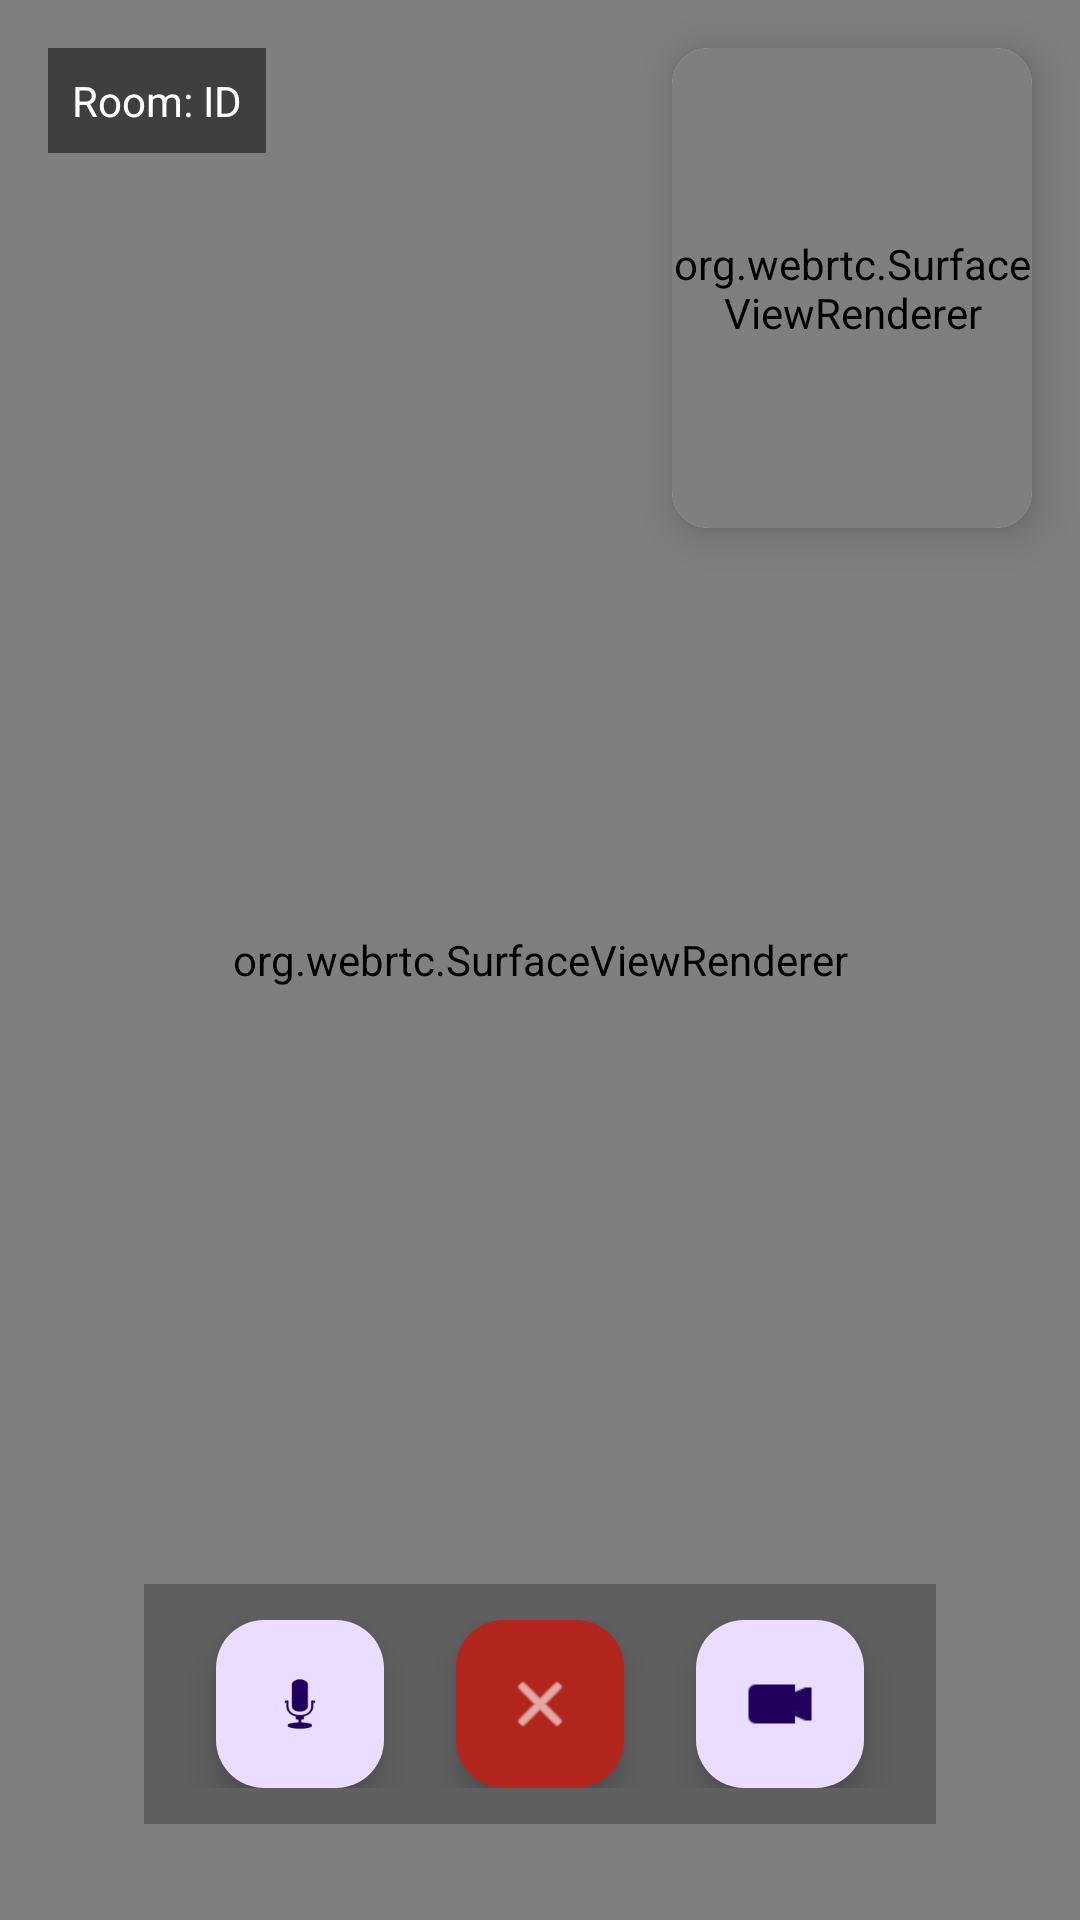

Where to tap for icons on this 1080*1920 app screen, as (x,y):
End Call: (540,1704)
Mute/Unmute Mic: (300,1704)
Toggle Camera: (780,1704)
